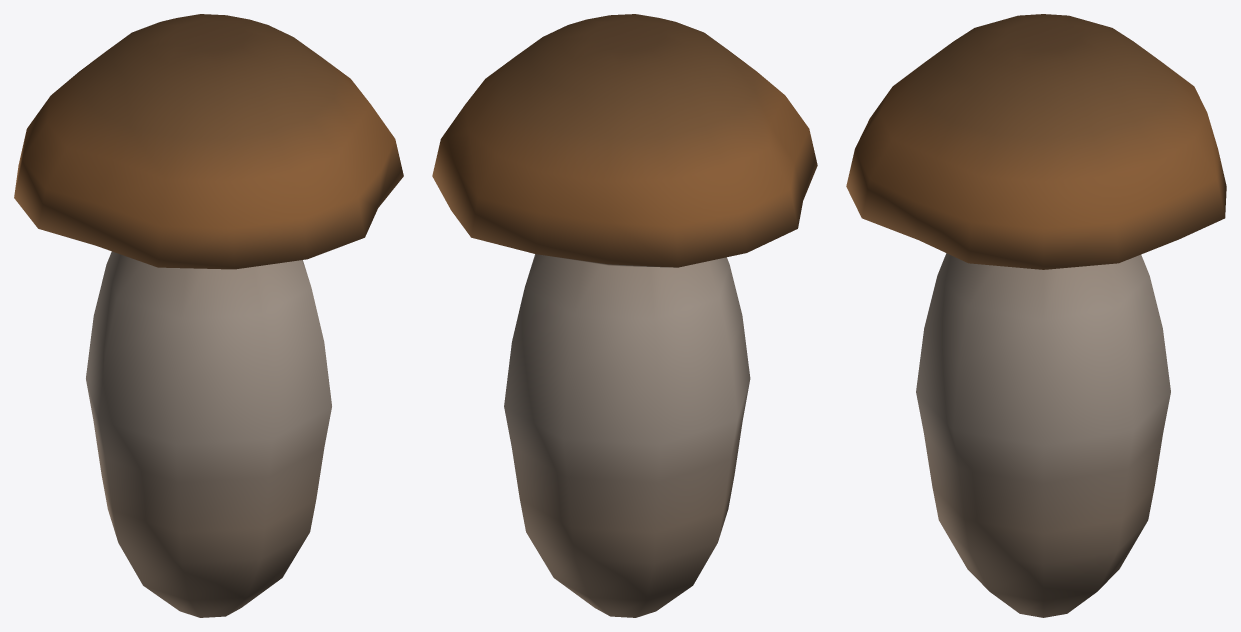
The model's file is plants-mushrooms-porcini-mushroom_v1.glb.
The picture shows the model from 3 angles, left to right: view 1: azimuth 30°, elevation 25°; view 2: azimuth 150°, elevation 25°; view 3: azimuth 270°, elevation 25°; orthographic projection.
Visible parts, largest first — view 1: Porcini Mushroom_v1; view 2: Porcini Mushroom_v1; view 3: Porcini Mushroom_v1.
Part boxes in pixels (x1,y1,x2,y2): Porcini Mushroom_v1: (14,14,403,617); Porcini Mushroom_v1: (432,14,817,617); Porcini Mushroom_v1: (846,14,1226,617).
Bounding box in the file's own units: 0.1234 × 0.2 × 0.119.
